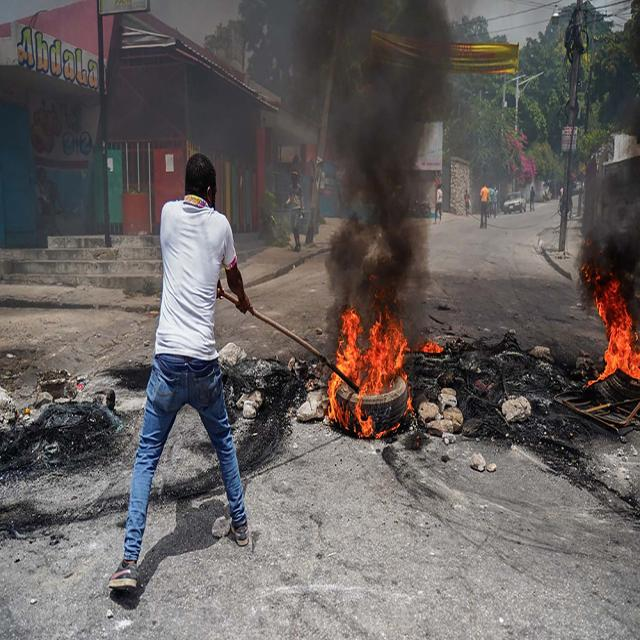fire: (328, 308, 413, 440), (587, 281, 640, 387)
